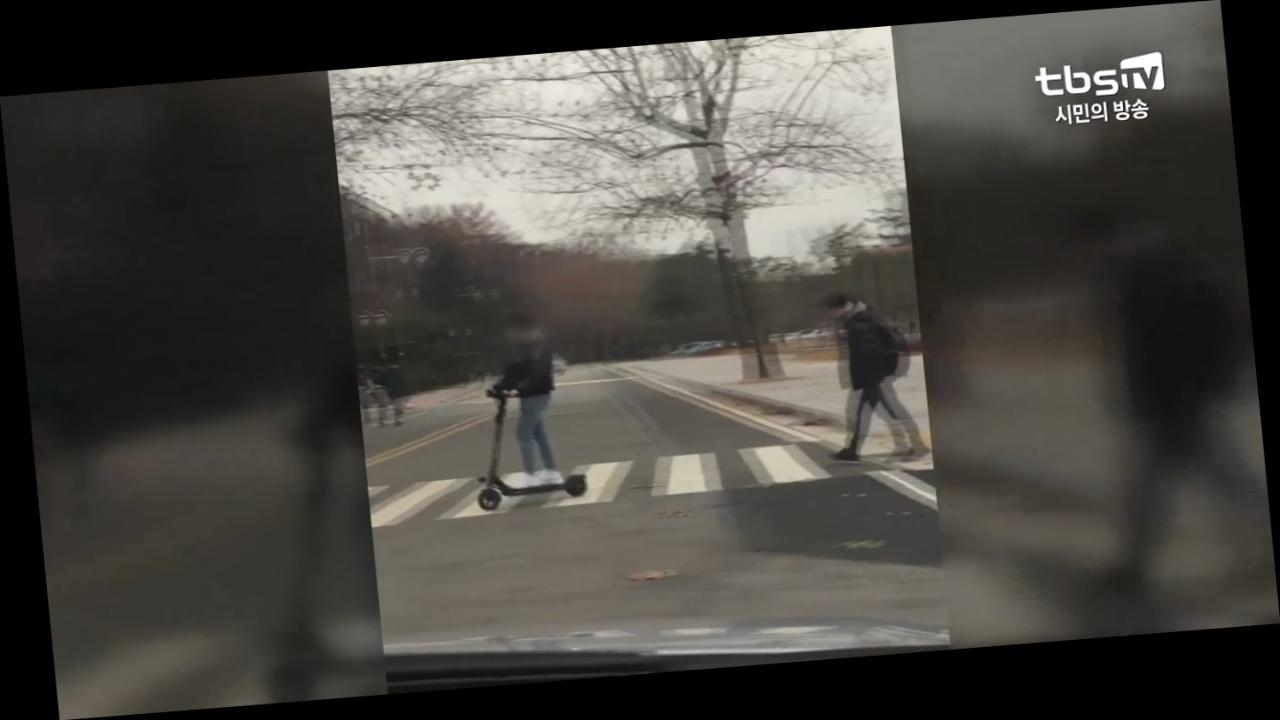nonhelmet: (452, 308, 594, 513)
